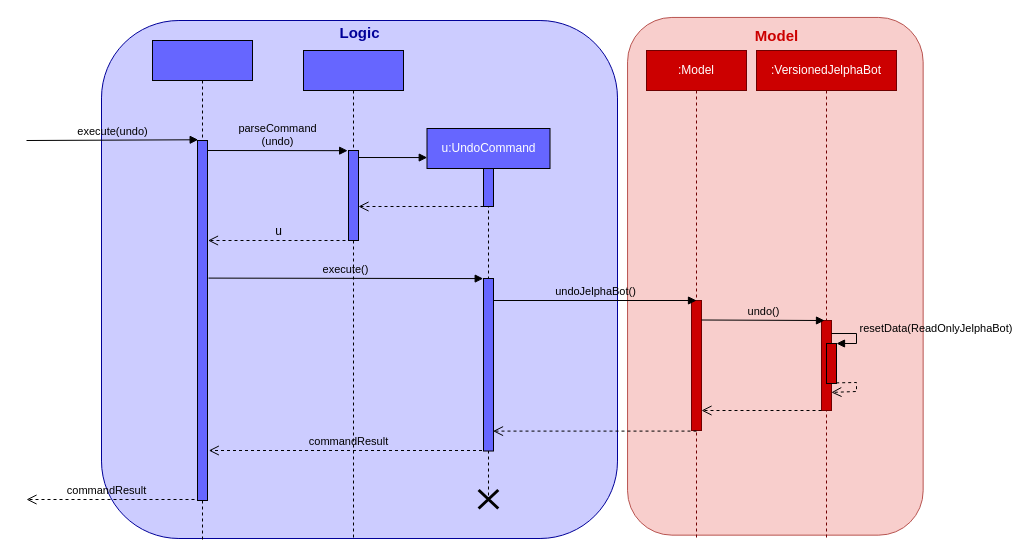
Some shapes in this 1030 by 559 pixel diagram are drawn without their labels. Each missing label, with the box of its shape:
:JelphaBotParser: (302, 50, 404, 538)
:LogicManager: (152, 40, 252, 540)
